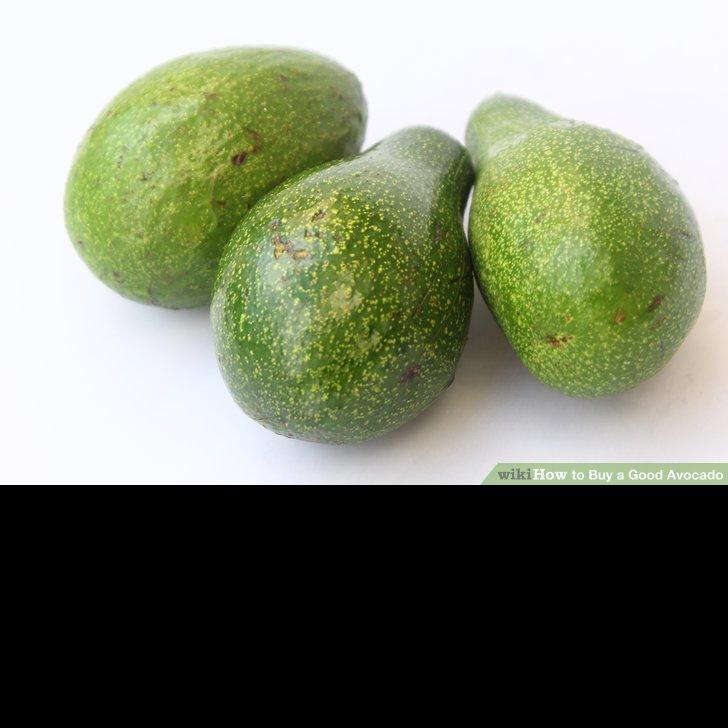unripe: (209, 125, 475, 446), (64, 46, 367, 309), (466, 93, 706, 399)
